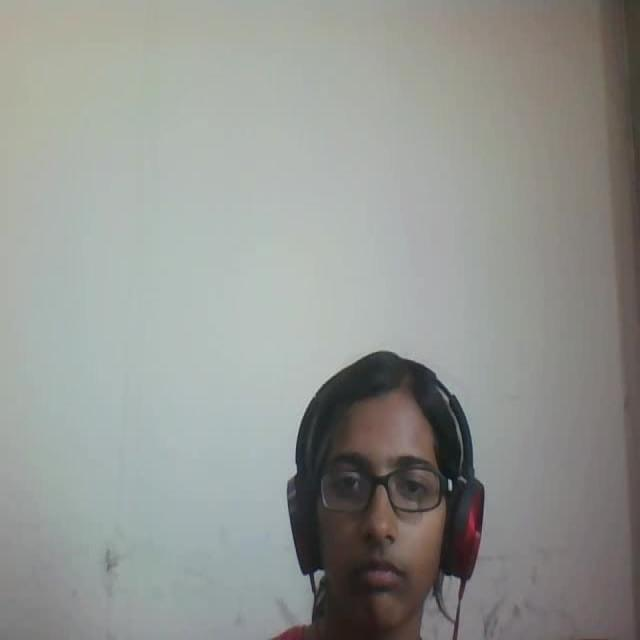Engaged: (237, 338, 494, 640)
